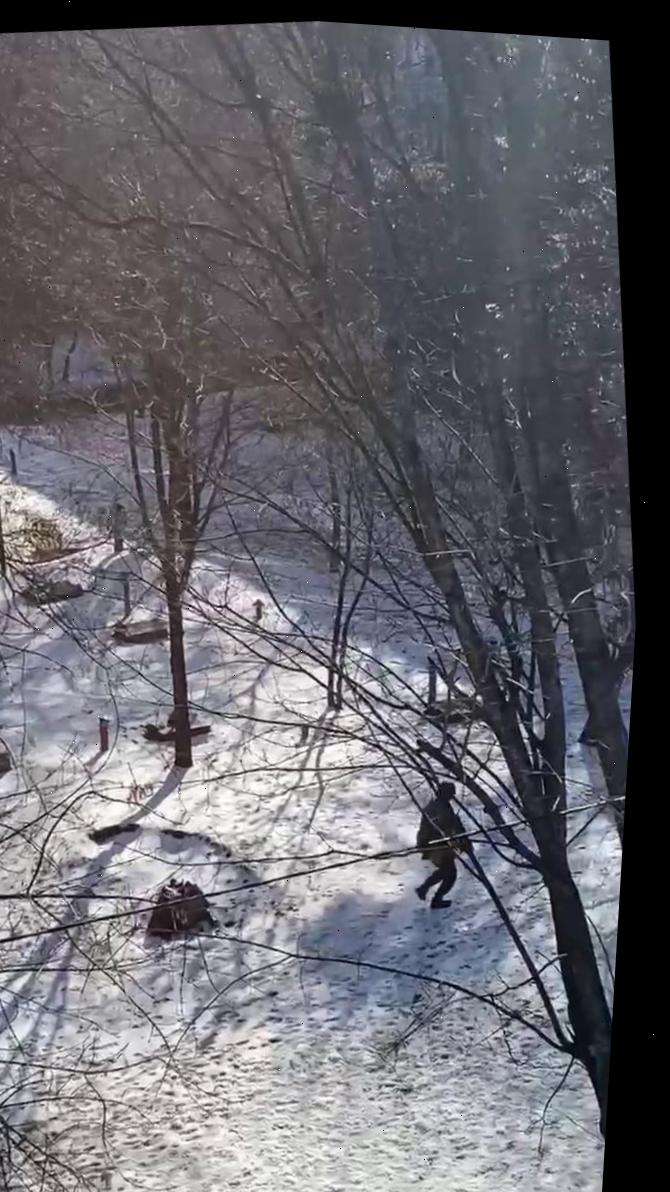person: (396, 773, 484, 914)
